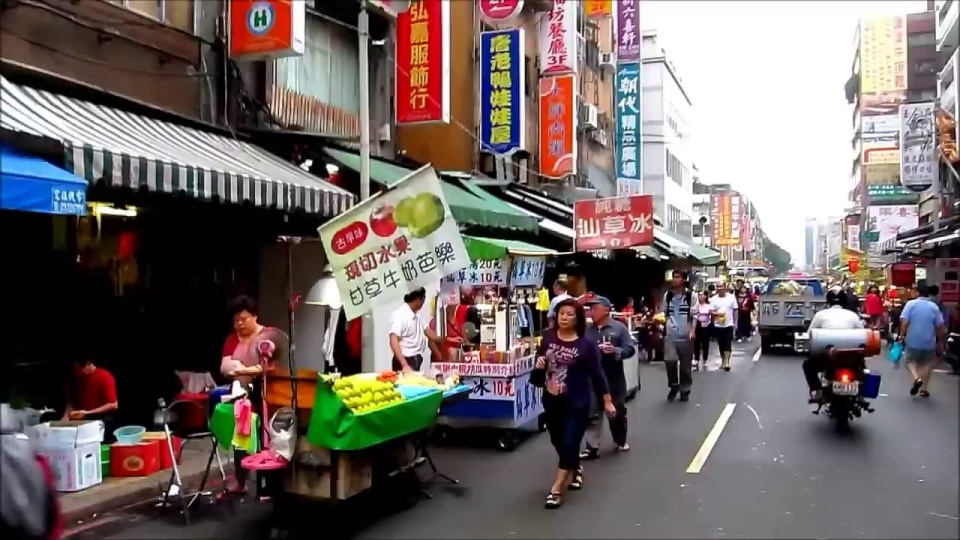person_head: (227, 297, 260, 336), (552, 300, 587, 334), (588, 297, 612, 325), (402, 287, 426, 312), (75, 353, 96, 375), (668, 270, 688, 289), (825, 286, 843, 306), (550, 279, 570, 294), (916, 283, 930, 297), (696, 290, 709, 303), (714, 282, 726, 293)
person_vbox: (526, 299, 618, 509), (216, 294, 294, 504), (384, 286, 461, 466), (799, 284, 872, 410), (579, 296, 630, 462), (896, 282, 944, 401), (658, 270, 699, 403), (60, 352, 117, 439), (427, 294, 471, 361), (709, 280, 739, 372), (690, 288, 714, 371), (544, 278, 576, 324)
